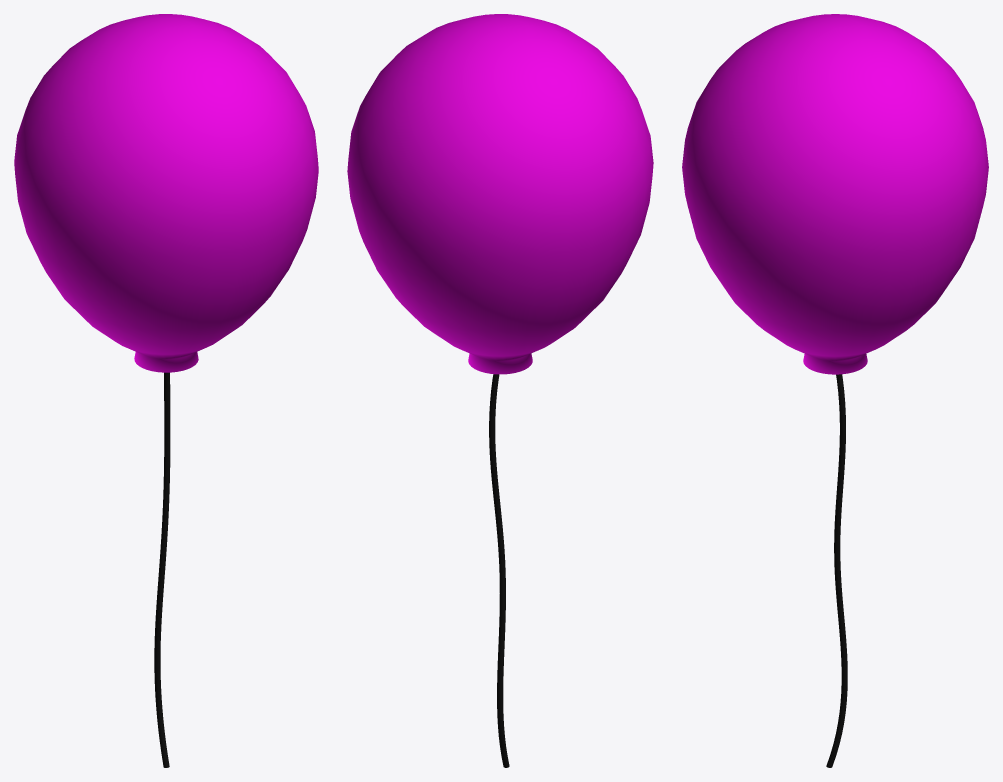
Rendered from balloon 2.fbx.
The picture shows the model from 3 angles, left to right: view 1: azimuth 30°, elevation 25°; view 2: azimuth 150°, elevation 25°; view 3: azimuth 270°, elevation 25°; orthographic projection.
Parts seen in each view (by area): view 1: Sphere, NurbsPath; view 2: Sphere, NurbsPath; view 3: Sphere, NurbsPath.
Part boxes in pixels (x1,y1,x2,y2): Sphere: (14, 14, 318, 372); NurbsPath: (154, 372, 170, 767); Sphere: (347, 14, 653, 374); NurbsPath: (489, 374, 509, 767); Sphere: (682, 14, 988, 374); NurbsPath: (826, 374, 847, 767).
Size of the model in its own units: 99.24 by 264 by 99.24.
